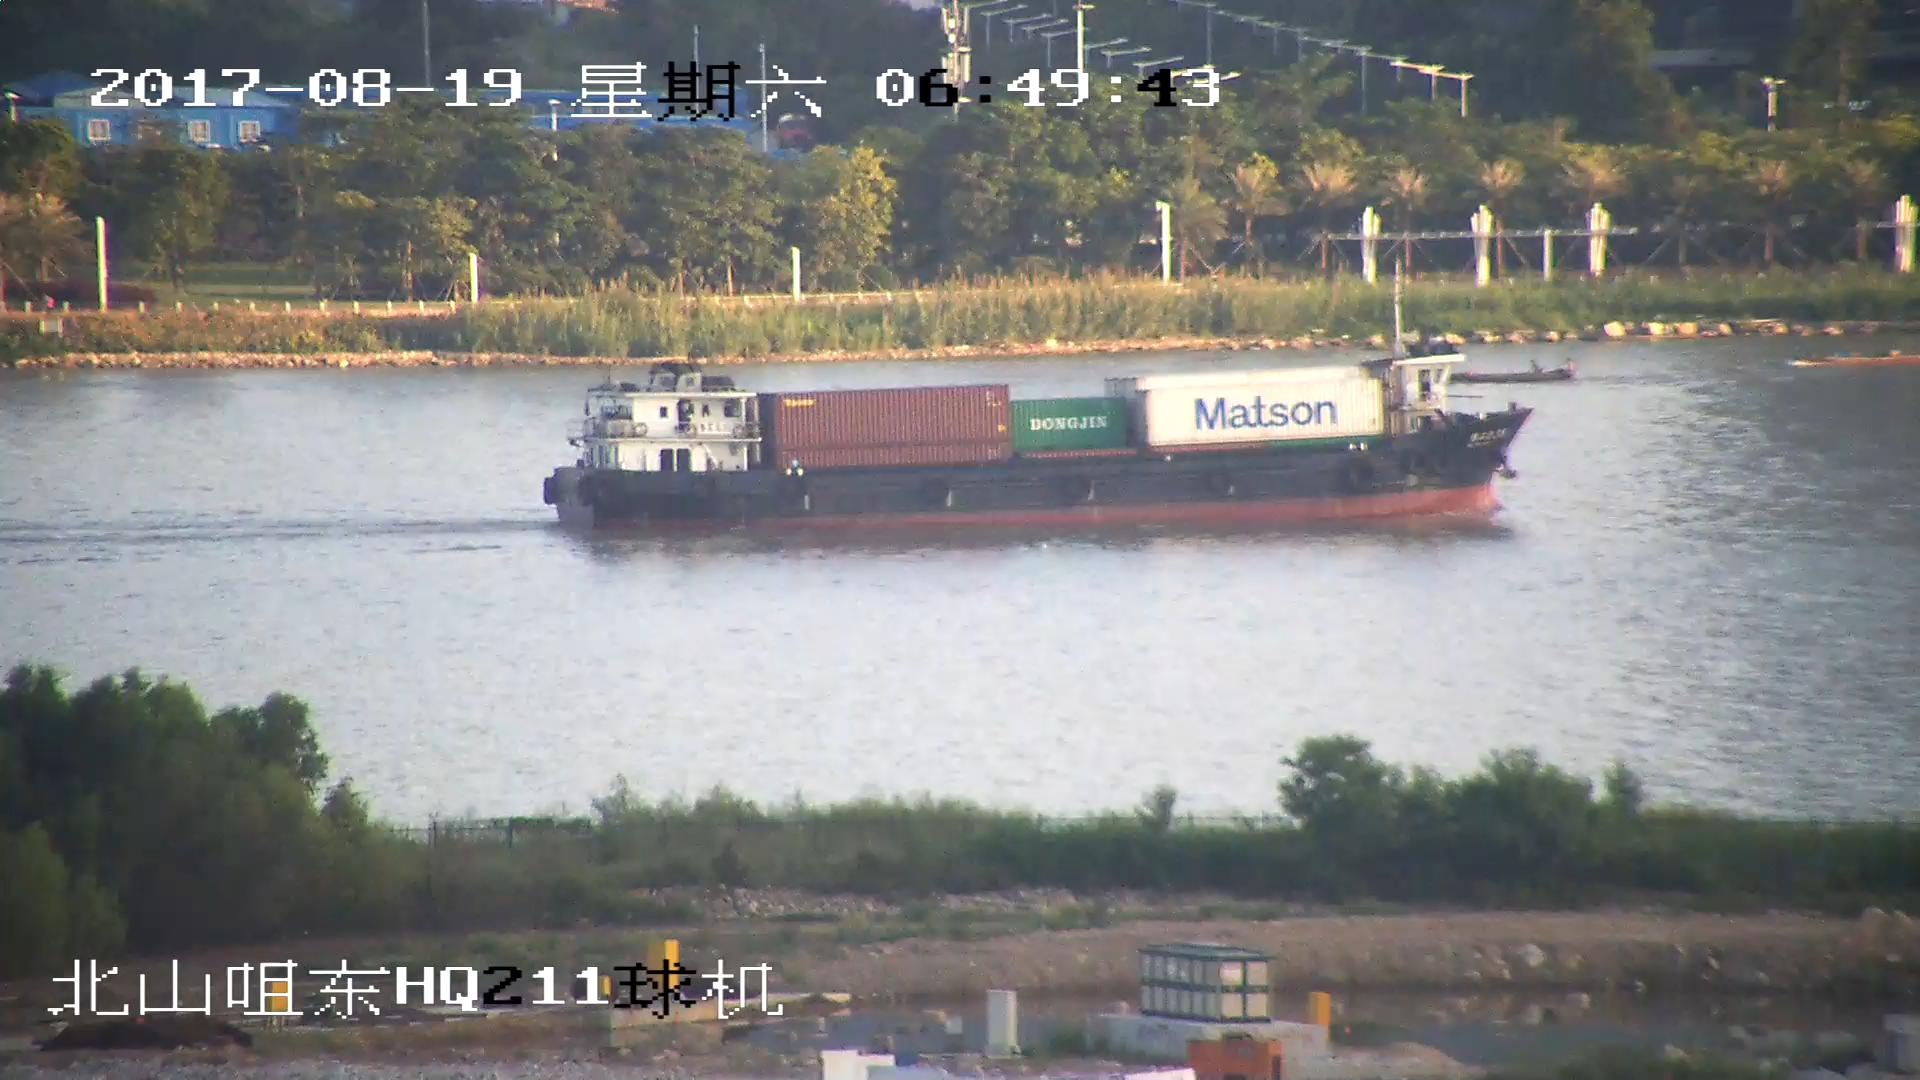container ship: (539, 295, 1539, 531)
fishing boat: (1789, 343, 1920, 387), (1461, 354, 1575, 398)
